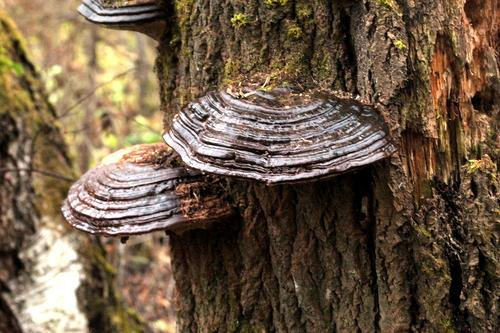Ganoderma - Fruit Body: (161, 82, 396, 180), (61, 142, 240, 237), (74, 0, 171, 37)
